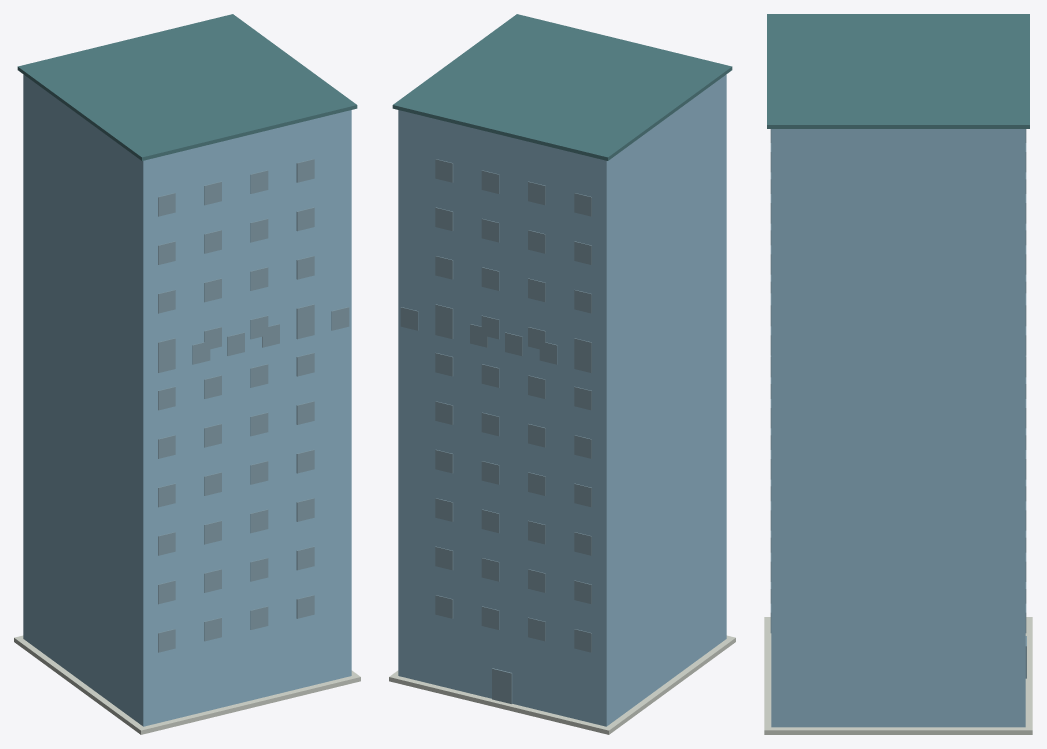
The model's file is city_tower.glb.
3 renders of one model, left to right at view 1: azimuth 30°, elevation 25°; view 2: azimuth 150°, elevation 25°; view 3: azimuth 270°, elevation 25°, orthographic. The views are drawn at different scales.
Parts seen in each view (by area): view 1: city_tower__walls, city_tower__roof, city_tower__plinth; view 2: city_tower__walls, city_tower__roof, city_tower__plinth, city_tower__front_door; view 3: city_tower__walls, city_tower__roof, city_tower__plinth.
Part boxes in pixels (<box>): city_tower__walls: <box>23,74,351,726</box>; city_tower__roof: <box>17,14,357,160</box>; city_tower__plinth: <box>14,635,360,734</box>; city_tower__walls: <box>398,74,726,726</box>; city_tower__roof: <box>392,14,732,160</box>; city_tower__plinth: <box>389,635,735,734</box>; city_tower__front_door: <box>492,668,512,703</box>; city_tower__walls: <box>771,129,1025,727</box>; city_tower__roof: <box>767,14,1029,128</box>; city_tower__plinth: <box>764,617,1032,734</box>.
Bounding box in the file's own units: 19 × 47.55 × 19.
